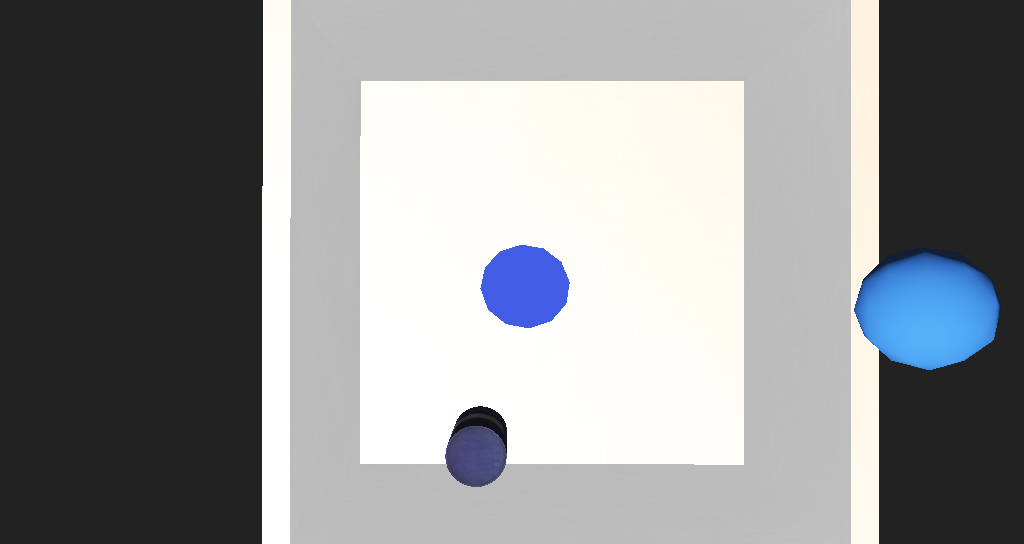cone: (418, 344, 472, 382)
cylinder: (438, 251, 519, 322)
sphere: (707, 255, 788, 317)
